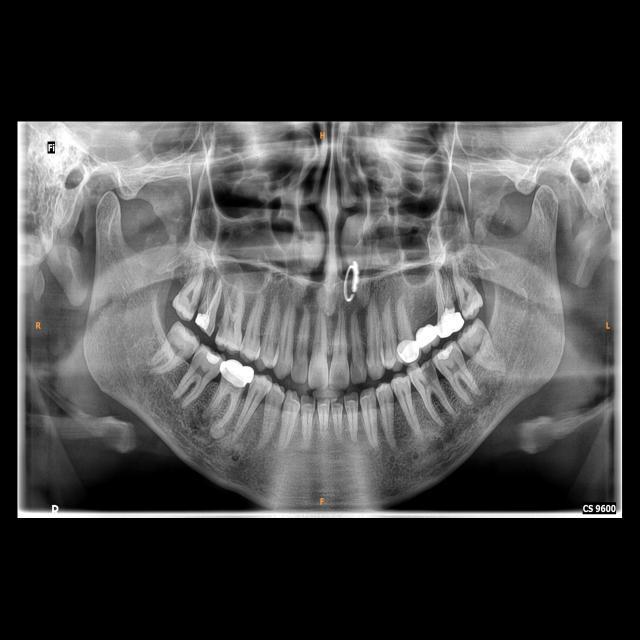dentin-curugu: (420, 361, 438, 382), (348, 361, 363, 382)
dolgu: (195, 305, 216, 334), (201, 348, 223, 367), (436, 345, 458, 363)
kanal-tedavisi: (436, 273, 451, 312), (206, 277, 218, 313)
kaplama: (220, 358, 255, 388), (437, 313, 465, 337), (397, 336, 420, 361)
kopru: (409, 315, 446, 351)
